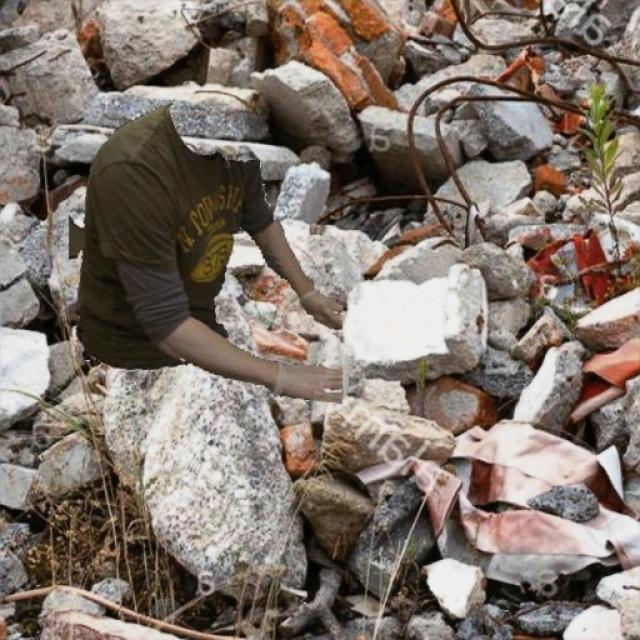Person in Rubble: (68, 102, 342, 402)
